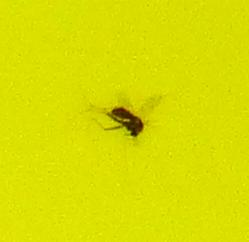Nematocera: (100, 100, 149, 142)
